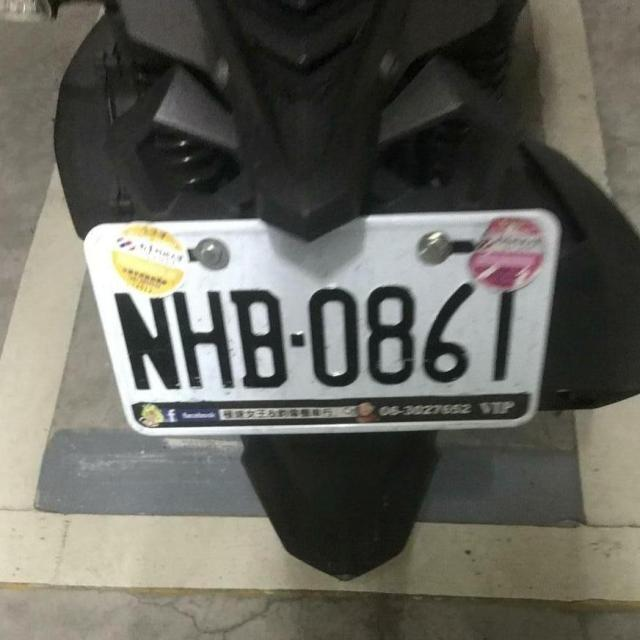W: (81, 185, 560, 440)
